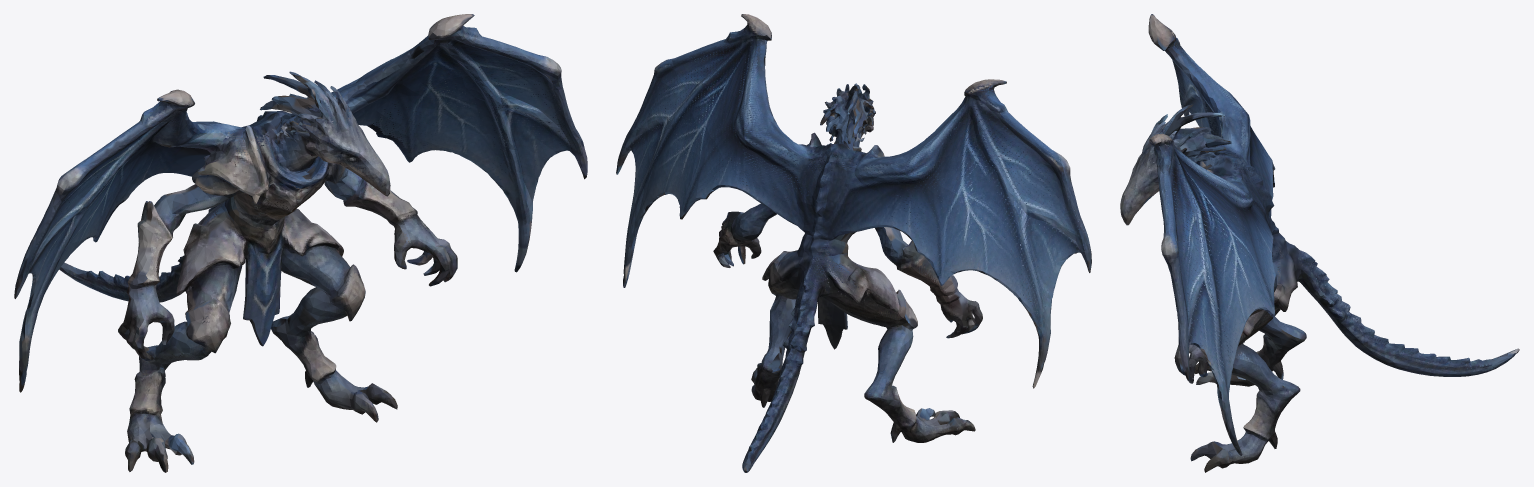
The model's file is foe_hanemuri.glb.
3 renders of one model, left to right at view 1: azimuth 30°, elevation 25°; view 2: azimuth 150°, elevation 25°; view 3: azimuth 270°, elevation 25°, orthographic. The views are drawn at different scales.
Visible parts, largest first — view 1: temp_mesh.ply; view 2: temp_mesh.ply; view 3: temp_mesh.ply.
Boxes of the visible parts, <box> form: temp_mesh.ply: <box>14,14,587,472</box>; temp_mesh.ply: <box>616,14,1091,472</box>; temp_mesh.ply: <box>1120,14,1519,472</box>.
Bounding box in the file's own units: 1.97 × 1.34 × 1.38.
Materials: 1 (1 with a texture image).
